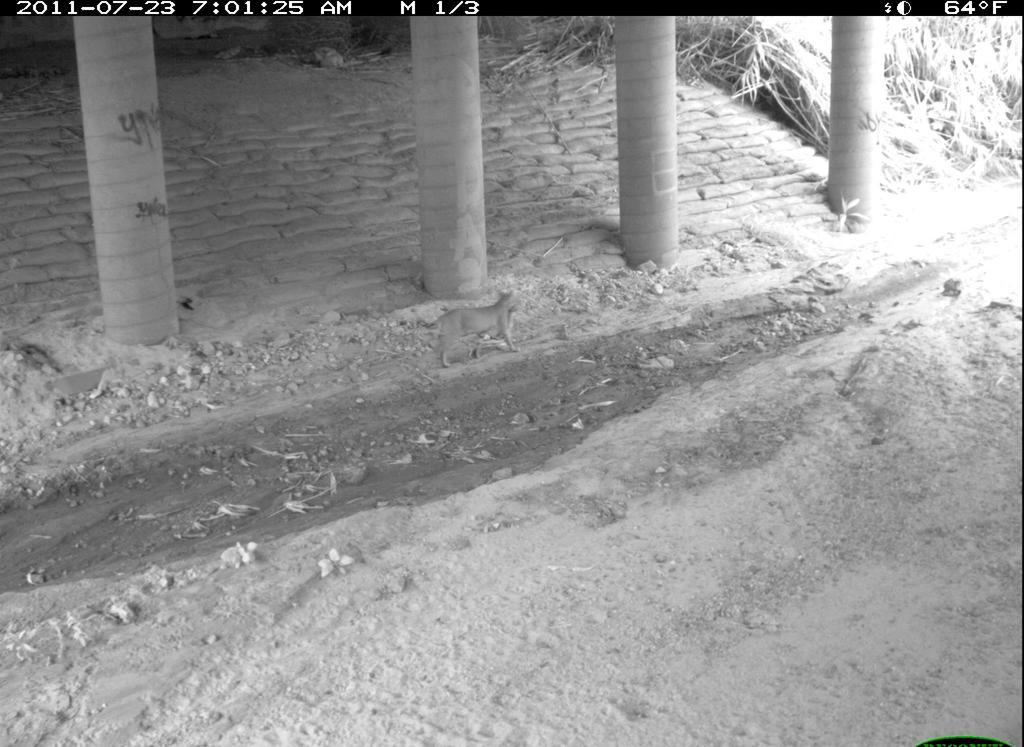bobcat: (846, 570, 1024, 743)
rabbit: (1009, 603, 1024, 681)
